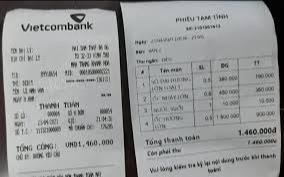receipt: (1, 10, 123, 168)
